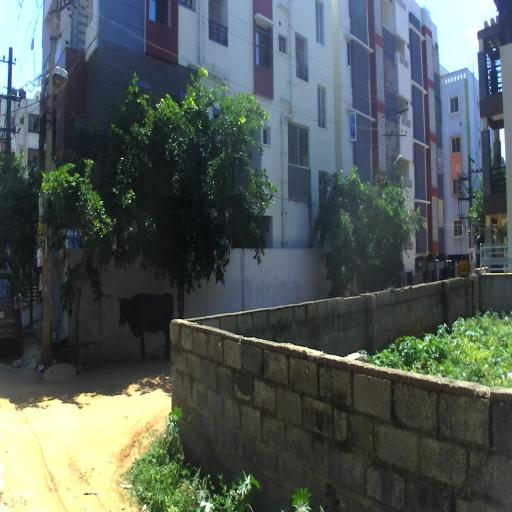street_light_0: (47, 66, 68, 128)
